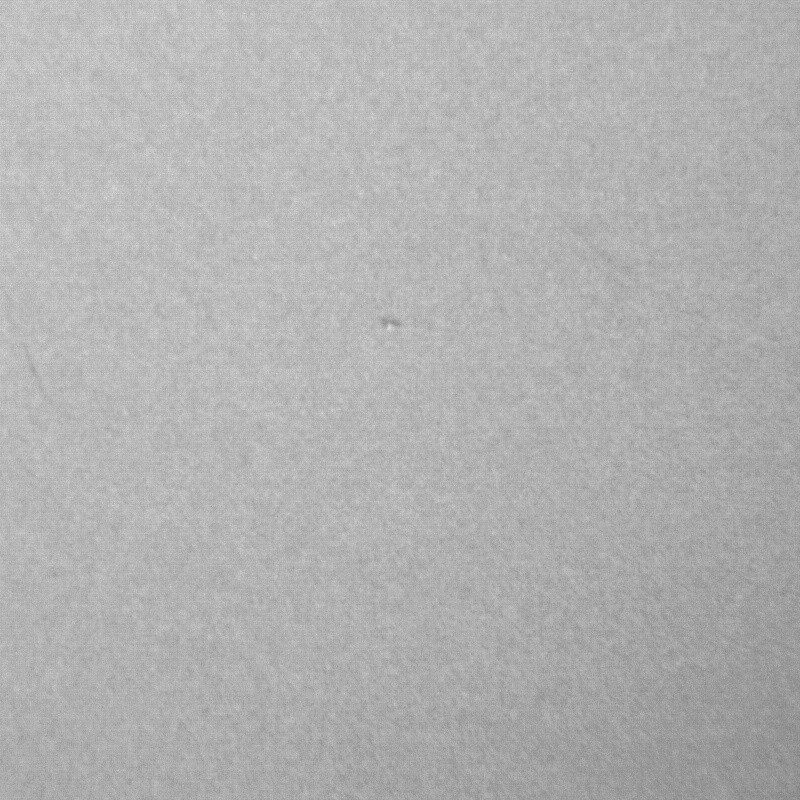defect: (16, 345, 59, 404), (378, 313, 419, 338)
